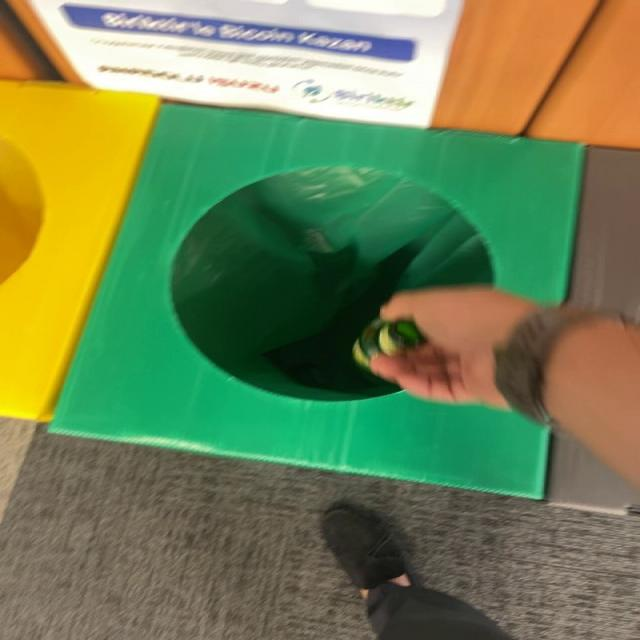glass: (352, 318, 427, 368)
